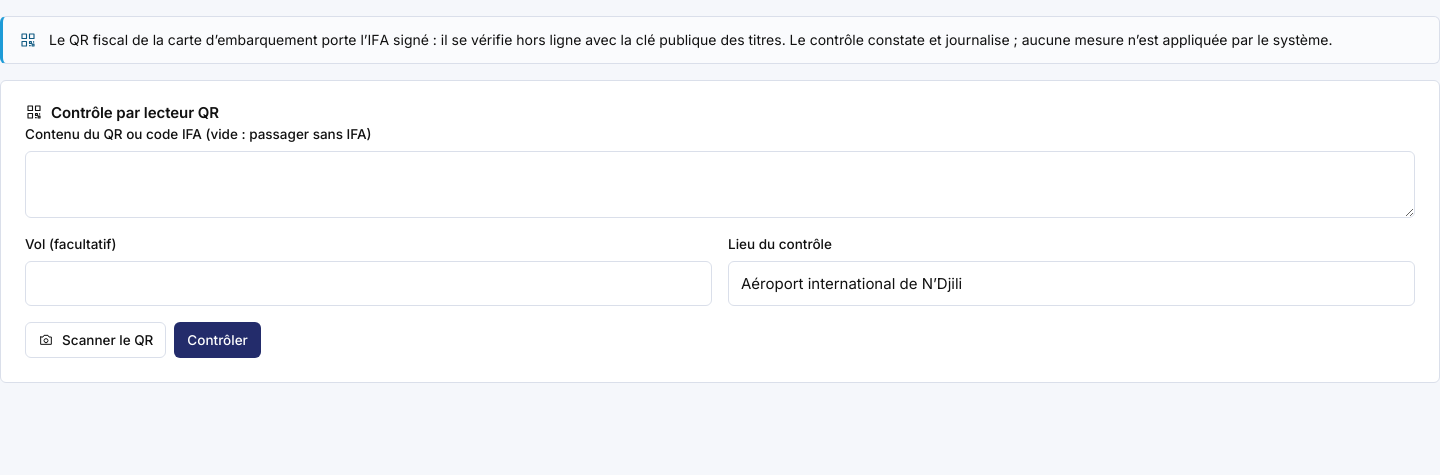
Test case: AVIA — contrôle IFA et cadre des mesures › contrôle sans IFA : constat, mesure indisponible sans arrêté
Click the button "Contrôler": (218, 340) [174,322,261,358]
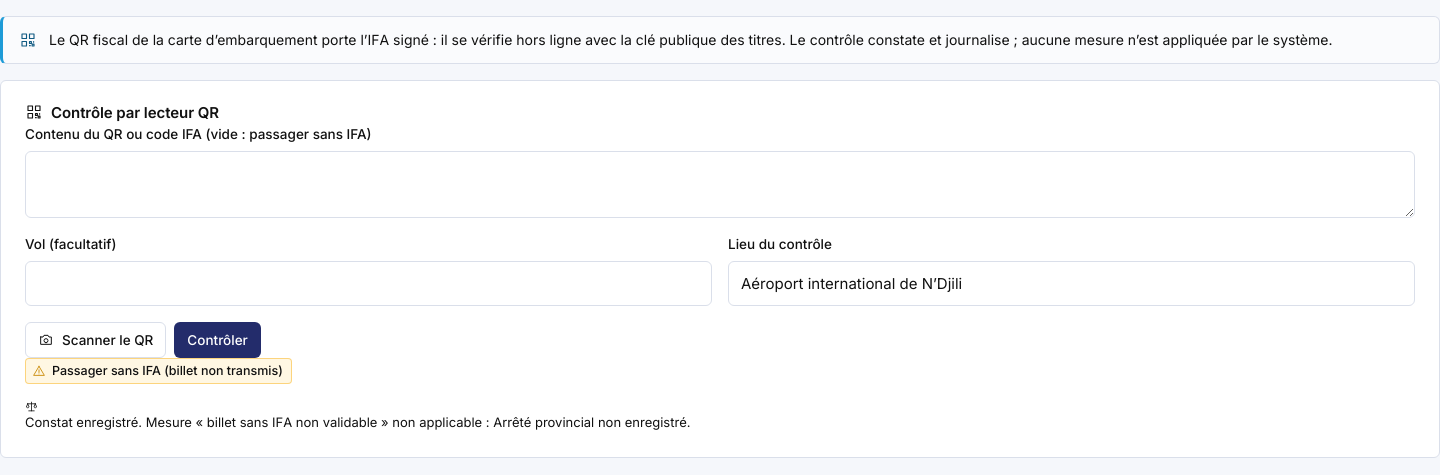
expect the text "Passager sans IFA (billet non transmis)" is shown: met, box [52,361,283,381]
expect the text "non applicable : Arrêté provincial non enregistré" is shown: met, box [25,414,690,430]
